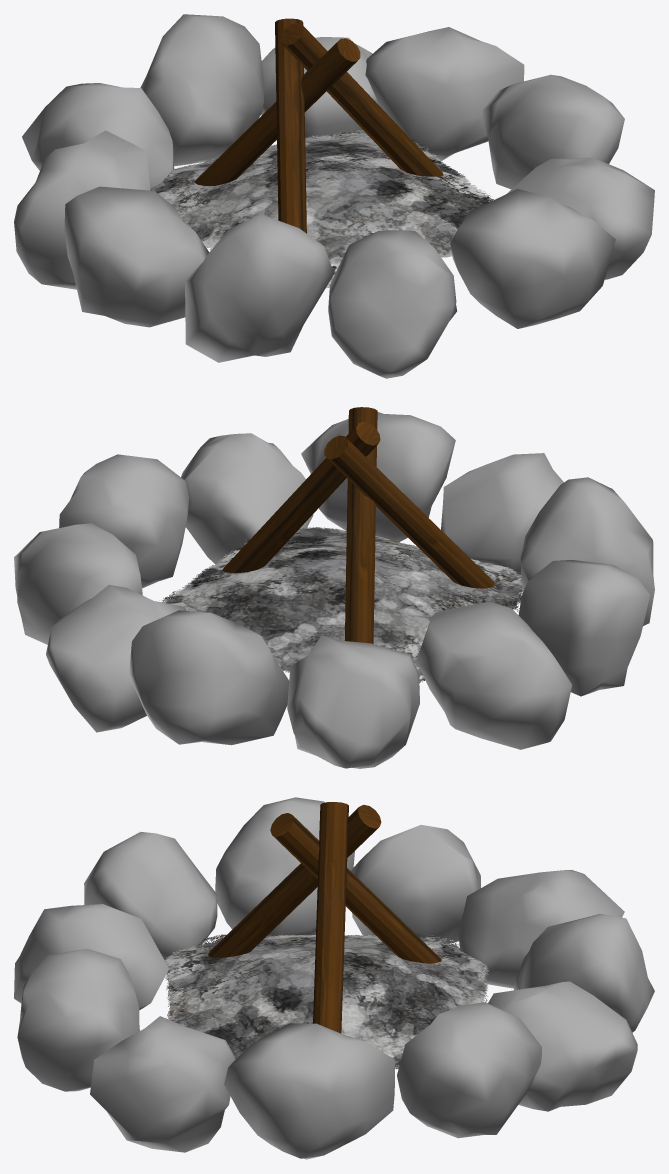
The model's file is Bonfire.fbx.
The picture shows the model from 3 angles, top to bottom: view 1: azimuth 30°, elevation 25°; view 2: azimuth 150°, elevation 25°; view 3: azimuth 270°, elevation 25°; orthographic projection.
Visible parts, largest first — view 1: pasted__pPlane1, polySurface6, polySurface4, polySurface3, polySurface5, rock16_2_LP_1:polySurface1, polySurface9, polySurface8, polySurface2, polySurface1, polySurface7, pCylinder1 (+3 smaller); view 2: pasted__pPlane1, rock16_2_LP_1:polySurface1, polySurface2, polySurface1, polySurface3, polySurface10, polySurface7, polySurface8, polySurface4, polySurface5, polySurface9, polySurface6 (+3 smaller); view 3: pasted__pPlane1, polySurface8, polySurface9, polySurface7, polySurface6, polySurface10, polySurface4, polySurface1, polySurface2, rock16_2_LP_1:polySurface1, polySurface3, polySurface5 (+3 smaller).
Boxes of the visible parts, x1,y1,x2,y2 form: pasted__pPlane1: (150, 130, 493, 287); polySurface6: (450, 189, 615, 328); polySurface4: (185, 214, 333, 362); polySurface3: (64, 186, 209, 327); polySurface5: (328, 230, 456, 378); rock16_2_LP_1:polySurface1: (140, 14, 263, 166); polySurface9: (365, 27, 524, 161); polySurface8: (480, 74, 624, 189); polySurface2: (14, 130, 150, 289); polySurface1: (22, 83, 174, 188); polySurface7: (507, 157, 654, 279); pCylinder1: (275, 18, 306, 233); pasted__pPlane1: (159, 527, 524, 682); rock16_2_LP_1:polySurface1: (129, 610, 289, 745); polySurface2: (416, 601, 572, 749); polySurface1: (287, 635, 419, 768); polySurface3: (518, 560, 650, 696); polySurface10: (46, 584, 186, 732); polySurface7: (181, 433, 313, 564); polySurface8: (59, 454, 188, 588); polySurface4: (520, 477, 654, 625); polySurface5: (441, 453, 563, 593); polySurface9: (14, 523, 142, 644); polySurface6: (301, 412, 455, 541); pasted__pPlane1: (165, 934, 489, 1068); polySurface8: (224, 1023, 395, 1159); polySurface9: (397, 1002, 541, 1138); polySurface7: (90, 1016, 235, 1152); polySurface6: (17, 948, 139, 1091); polySurface10: (488, 981, 637, 1111); polySurface4: (84, 831, 217, 962); polySurface1: (458, 870, 624, 988); polySurface2: (351, 825, 480, 943); rock16_2_LP_1:polySurface1: (514, 914, 654, 1032); polySurface3: (215, 797, 354, 936); polySurface5: (14, 904, 169, 1010).
Bounding box in the file's own units: 353 × 155 × 357.
Materials: 3 (2 with a texture image).
